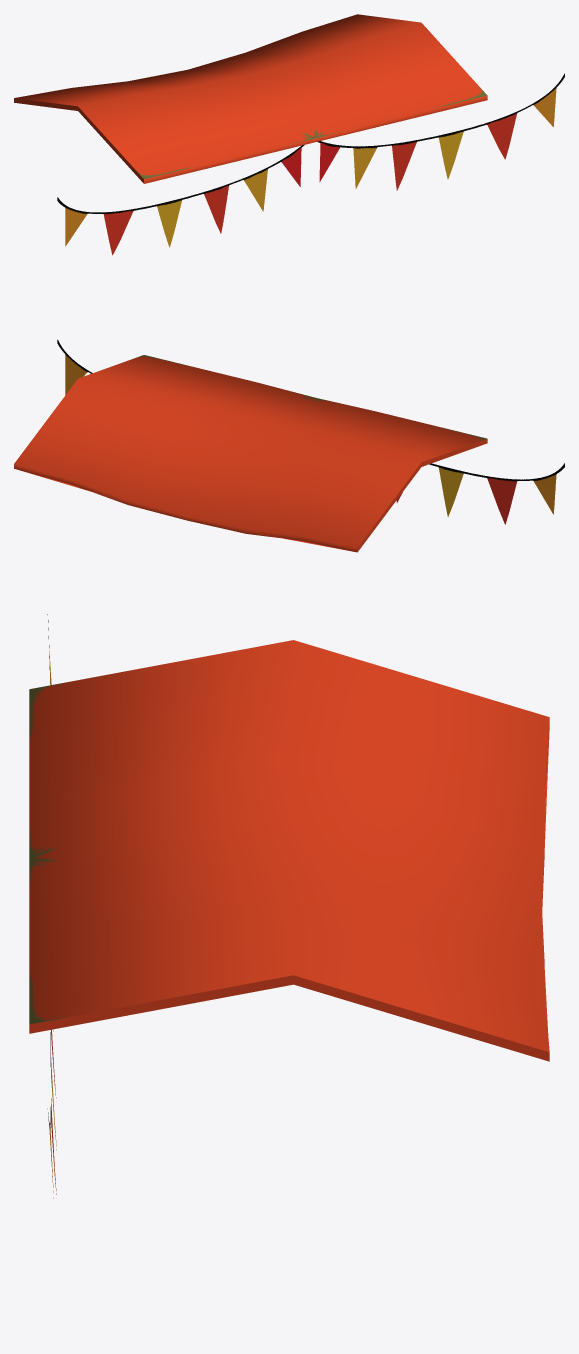
Rendered from klappe.fbx.
The picture shows the model from 3 angles, top to bottom: view 1: azimuth 30°, elevation 25°; view 2: azimuth 150°, elevation 25°; view 3: azimuth 270°, elevation 25°; orthographic projection. The views are drawn at different scales.
Visible parts, largest first — view 1: klappe; view 2: klappe; view 3: klappe.
Part boxes in pixels (x1,y1,x2,y2): klappe: (14,14,564,255); klappe: (14,339,564,552); klappe: (29,614,549,1198).
Size of the model in its own units: 112 by 33.47 by 49.91.
Materials: 2 (1 with a texture image).
